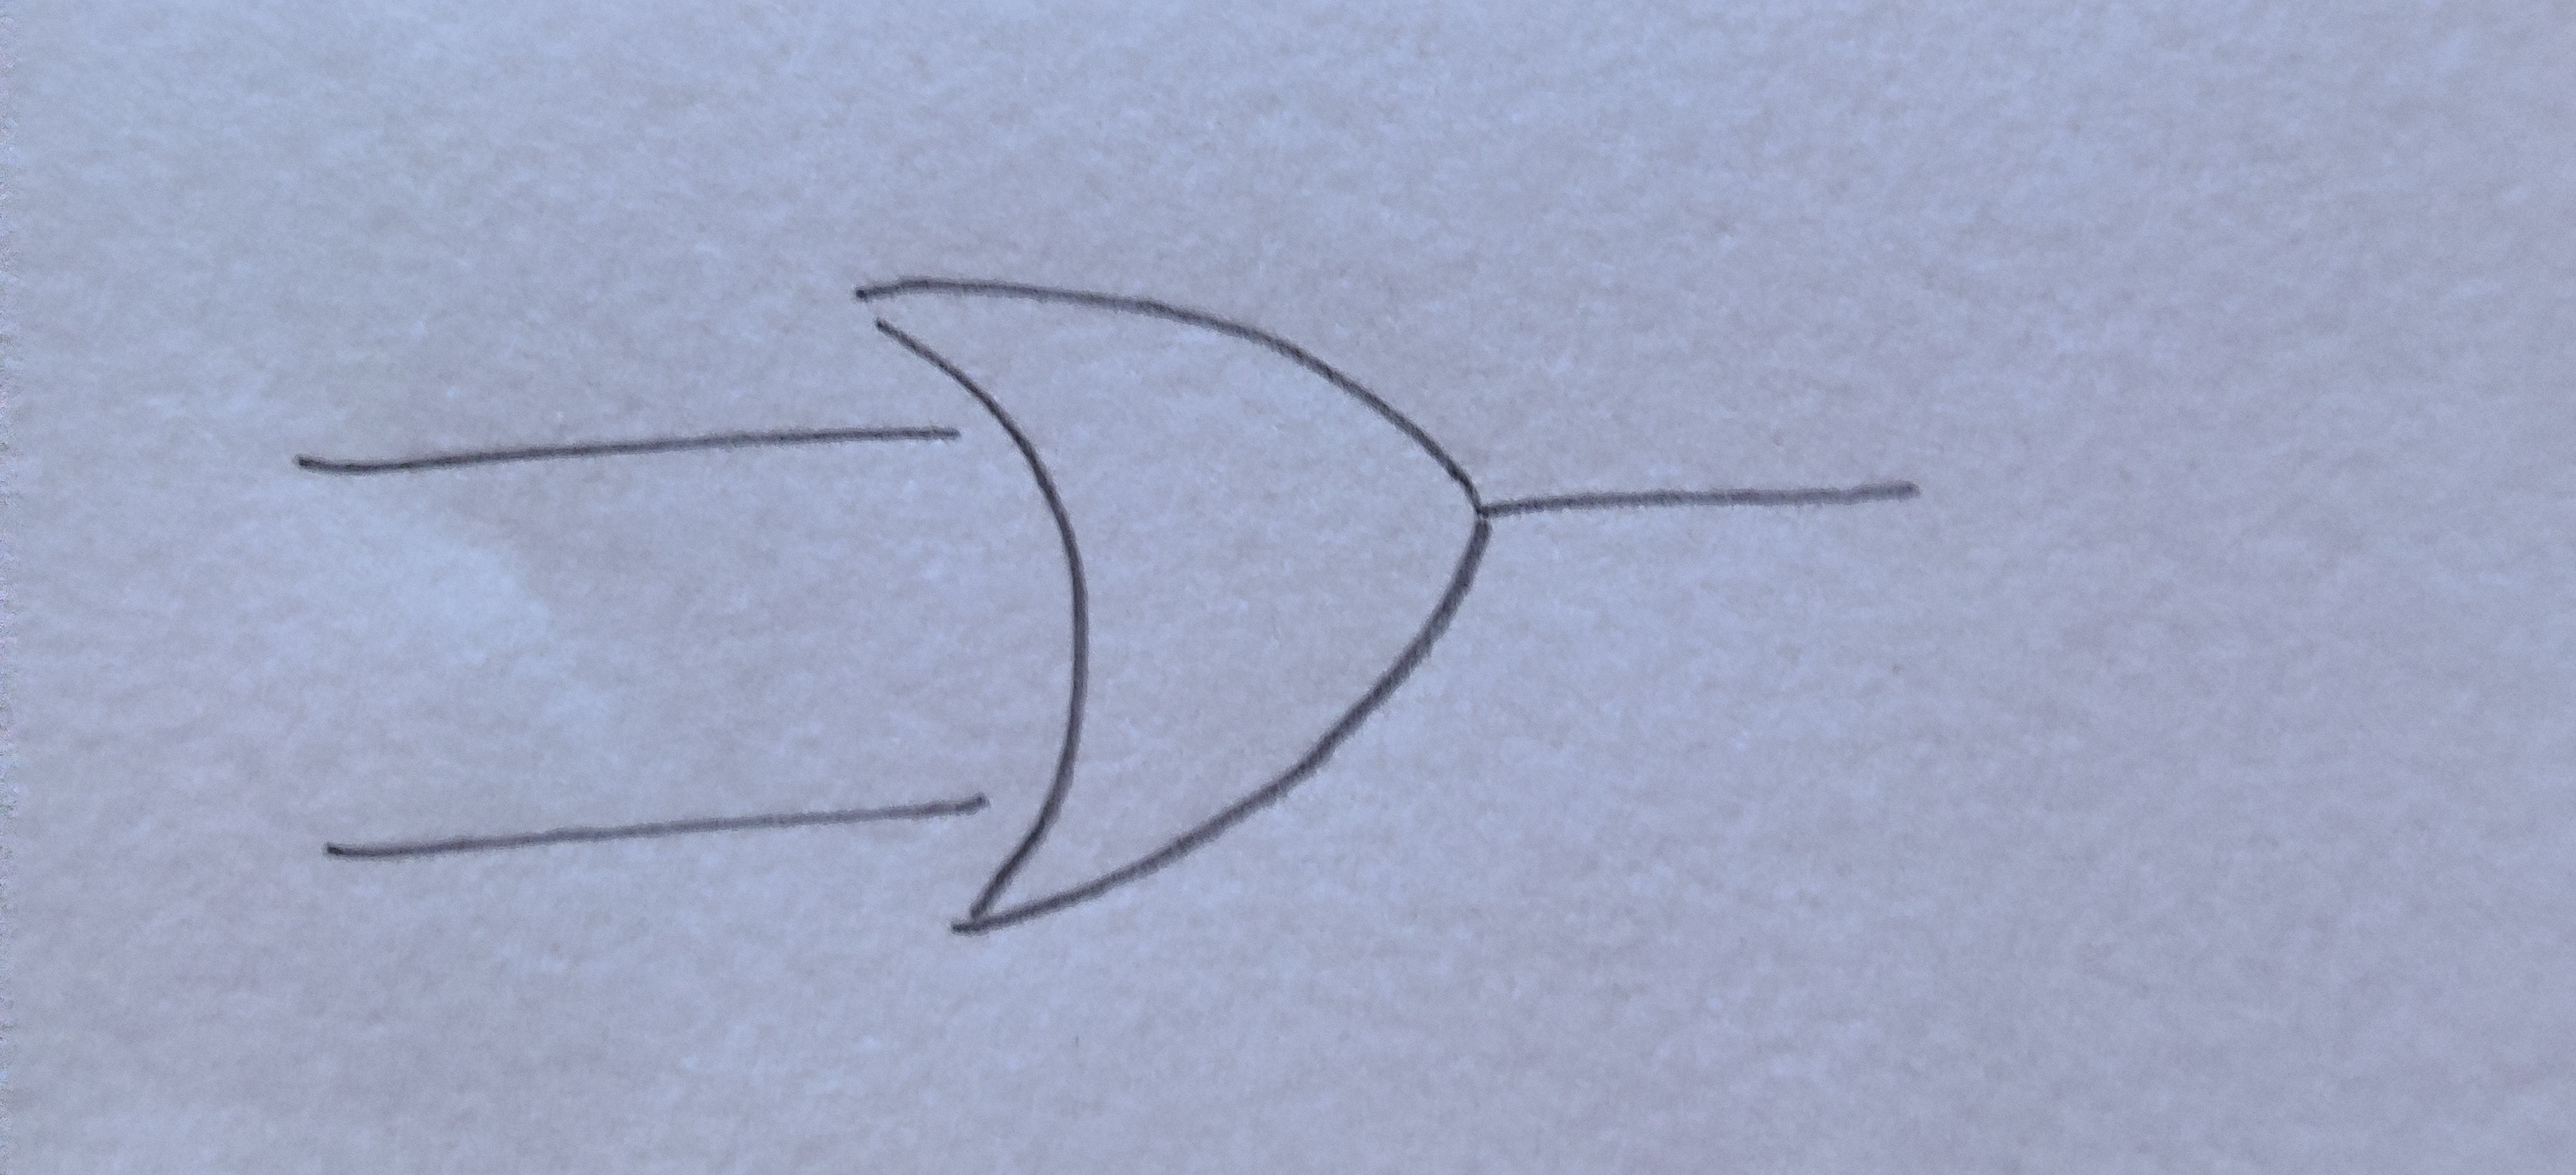or: (861, 276, 1488, 937)
